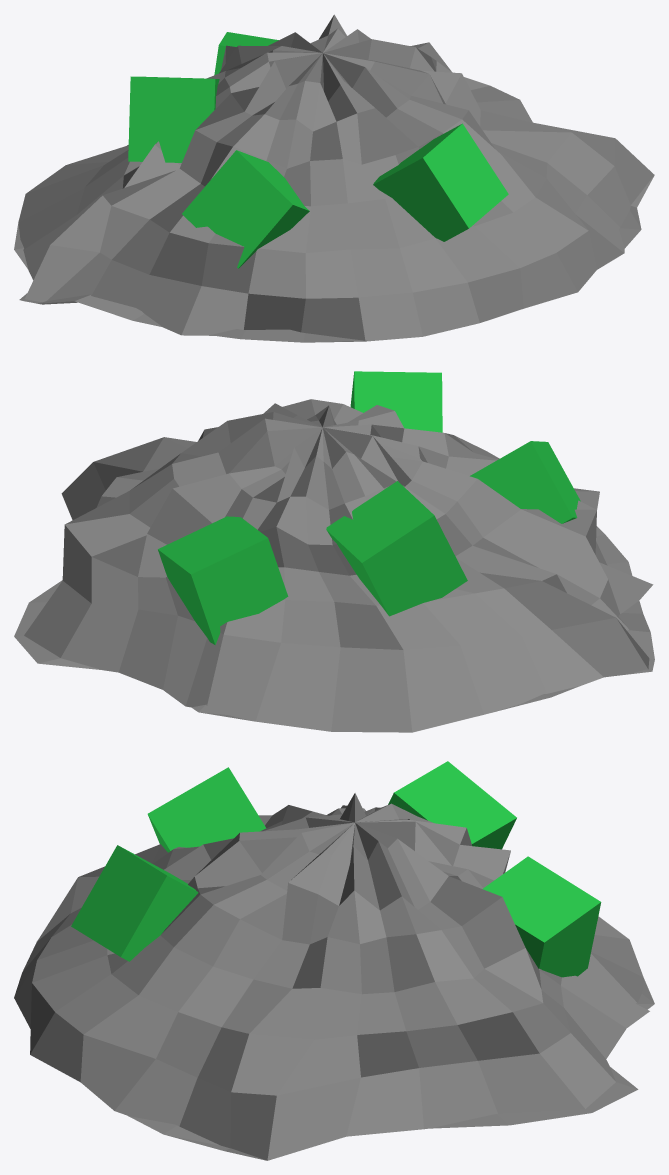
File: halfFilledRock.fbx
3 views of the same model, one above another, from view 1: azimuth 30°, elevation 25°; view 2: azimuth 150°, elevation 25°; view 3: azimuth 270°, elevation 25° (orthographic). The views are drawn at different scales.
Visible parts, largest first — view 1: Sphere, Cube.001, Cube.003, Cube, Cube.005; view 2: Sphere, Cube, Cube.005, Cube.003, Cube.001; view 3: Sphere, Cube.005, Cube.001, Cube.003, Cube.
Part boxes in pixels (x1,y1,x2,y2): Sphere: (14, 14, 654, 342); Cube.001: (373, 123, 508, 241); Cube.003: (182, 150, 309, 268); Cube: (128, 76, 219, 162); Cube.005: (214, 32, 278, 75); Sphere: (14, 399, 654, 732); Cube: (326, 481, 467, 616); Cube.005: (158, 516, 288, 644); Cube.003: (470, 441, 580, 523); Cube.001: (350, 371, 442, 432); Sphere: (14, 793, 654, 1160); Cube.005: (482, 856, 601, 977); Cube.001: (71, 845, 198, 961); Cube.003: (147, 767, 266, 852); Cube: (388, 761, 516, 849).
Bounding box in the file's own units: 410 × 117 × 342.
